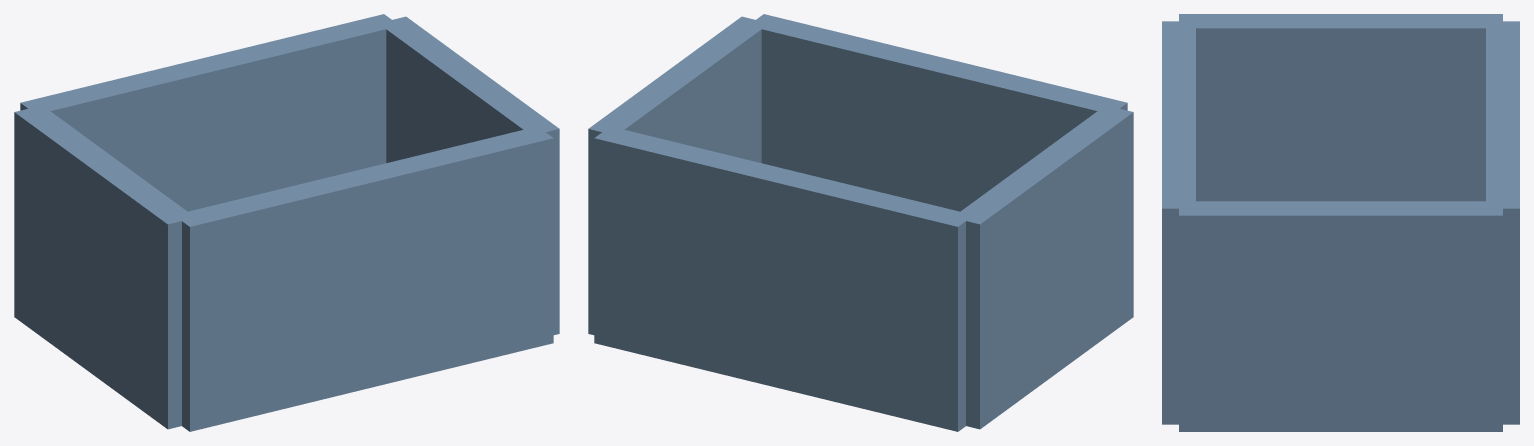
Rendered from crate1.glb.
3 views of the same model, side by side, from view 1: azimuth 30°, elevation 25°; view 2: azimuth 150°, elevation 25°; view 3: azimuth 270°, elevation 25° (orthographic). The views are drawn at different scales.
Visible parts, largest first — view 1: NC_crate1; view 2: NC_crate1; view 3: NC_crate1.
Boxes of the visible parts, x1,y1,x2,y2 form: NC_crate1: [14, 14, 559, 431]; NC_crate1: [588, 14, 1133, 431]; NC_crate1: [1162, 14, 1519, 431].
Bounding box in the file's own units: 0.56 × 0.28 × 0.42.
